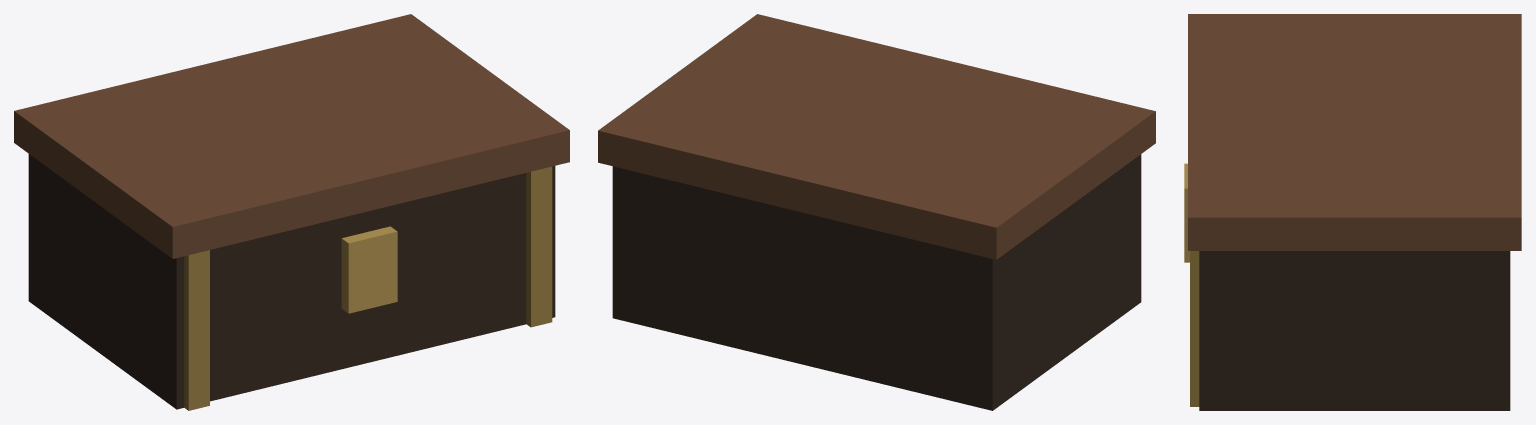
The model's file is obj-sewing-case.glb.
3 views of the same model, side by side, from view 1: azimuth 30°, elevation 25°; view 2: azimuth 150°, elevation 25°; view 3: azimuth 270°, elevation 25° (orthographic). The views are drawn at different scales.
Visible parts, largest first — view 1: obj-sewing-case-wood, obj-sewing-case-woodDark, obj-sewing-case-brass; view 2: obj-sewing-case-woodDark, obj-sewing-case-wood; view 3: obj-sewing-case-wood, obj-sewing-case-woodDark, obj-sewing-case-brass.
Boxes of the visible parts, x1=… form: obj-sewing-case-wood: x1=14, y1=14, x2=569, y2=258; obj-sewing-case-woodDark: x1=28, y1=154, x2=555, y2=409; obj-sewing-case-brass: x1=184, y1=166, x2=552, y2=410; obj-sewing-case-woodDark: x1=612, y1=154, x2=1141, y2=410; obj-sewing-case-wood: x1=598, y1=14, x2=1155, y2=259; obj-sewing-case-wood: x1=1188, y1=14, x2=1521, y2=250; obj-sewing-case-woodDark: x1=1199, y1=251, x2=1510, y2=410; obj-sewing-case-brass: x1=1184, y1=163, x2=1199, y2=406.
Bounding box in the file's own units: 0.65 × 0.295 × 0.455.
